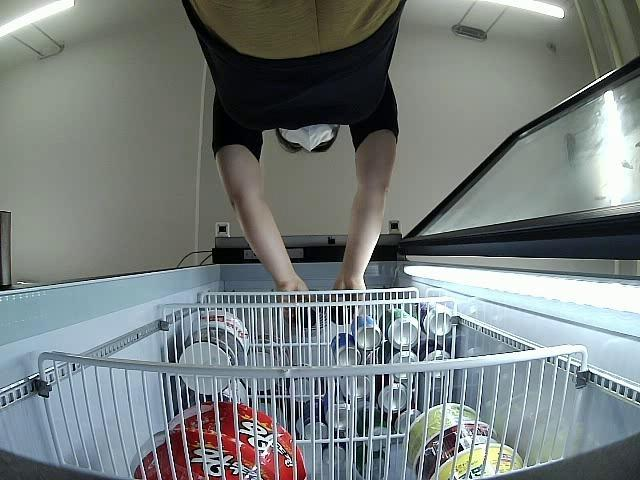17_vita500: (291, 297, 319, 328), (331, 301, 356, 326)
